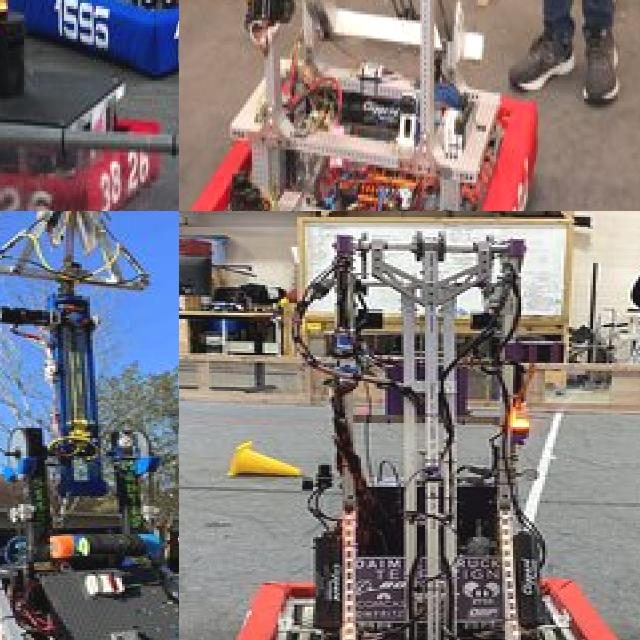FRC-Robots: (199, 215, 640, 640), (179, 0, 559, 211), (0, 211, 179, 640), (0, 0, 168, 211), (0, 0, 179, 65)
